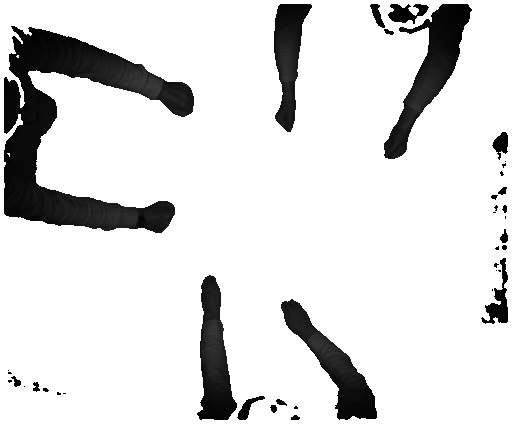fist: (161, 77, 199, 119), (142, 200, 175, 239), (384, 130, 415, 159), (272, 100, 295, 135)
hand: (280, 296, 315, 337), (200, 272, 223, 317)
